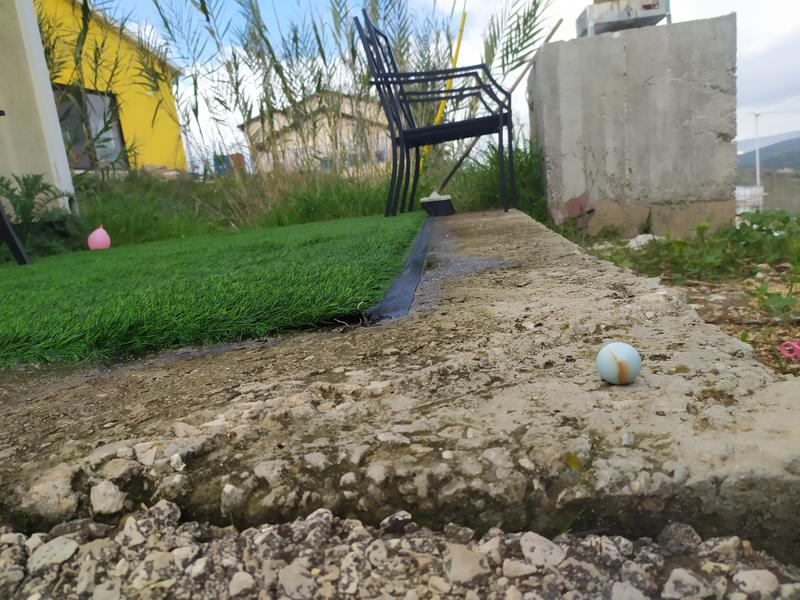Warning: (594, 341, 643, 387)
